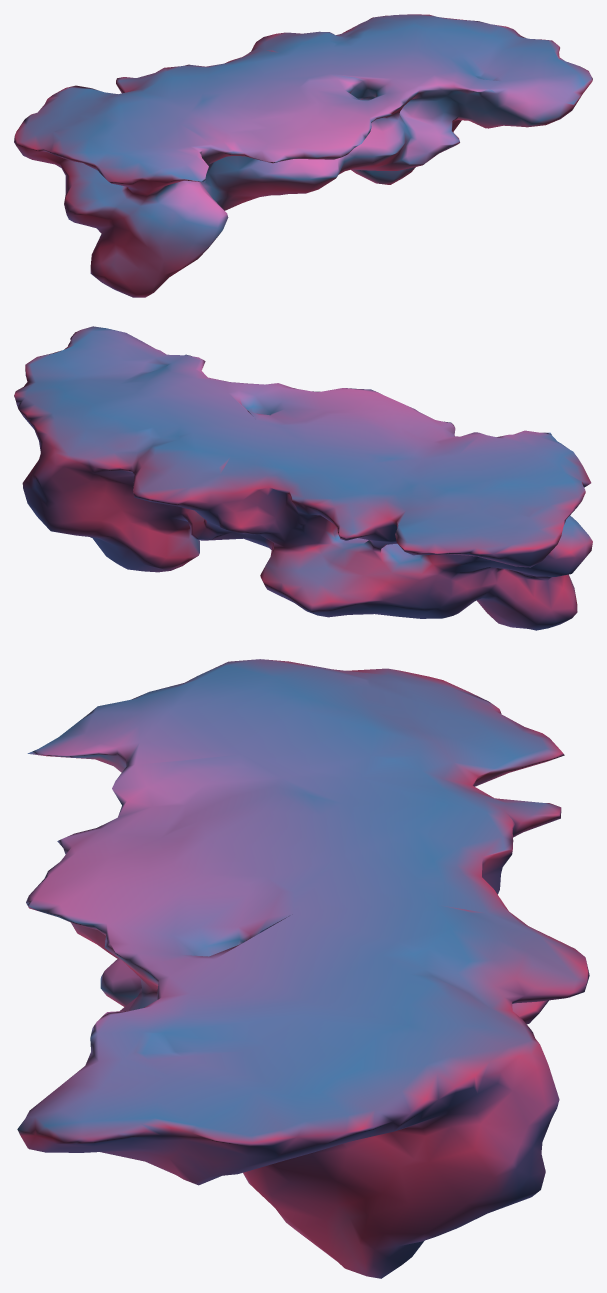
Rendered from Platform_Rock_02.fbx.
3 views of the same model, one above another, from view 1: azimuth 30°, elevation 25°; view 2: azimuth 150°, elevation 25°; view 3: azimuth 270°, elevation 25° (orthographic). The views are drawn at different scales.
Parts seen in each view (by area): view 1: transform7; view 2: transform7; view 3: transform7.
Boxes of the visible parts, x1=… form: transform7: x1=14, y1=14, x2=592, y2=297; transform7: x1=14, y1=326, x2=592, y2=630; transform7: x1=17, y1=659, x2=589, y2=1278.
Size of the model in its own units: 706 by 200 by 349.
